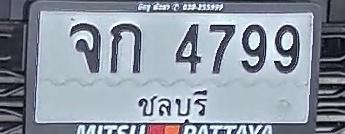4: (175, 22, 201, 73)
7: (209, 23, 235, 73)
9: (274, 23, 299, 72), (241, 23, 266, 72)
A01: (109, 22, 142, 73)
A08: (70, 22, 100, 72)
CBI: (128, 85, 217, 122)
